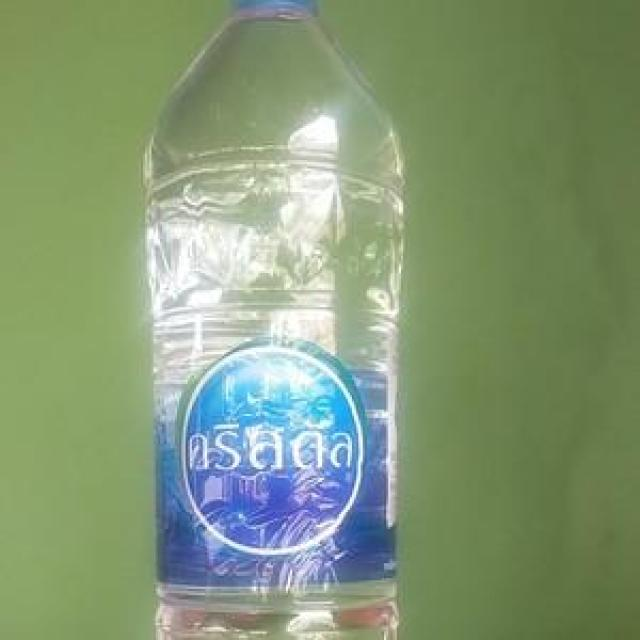bottle: (132, 0, 414, 640)
